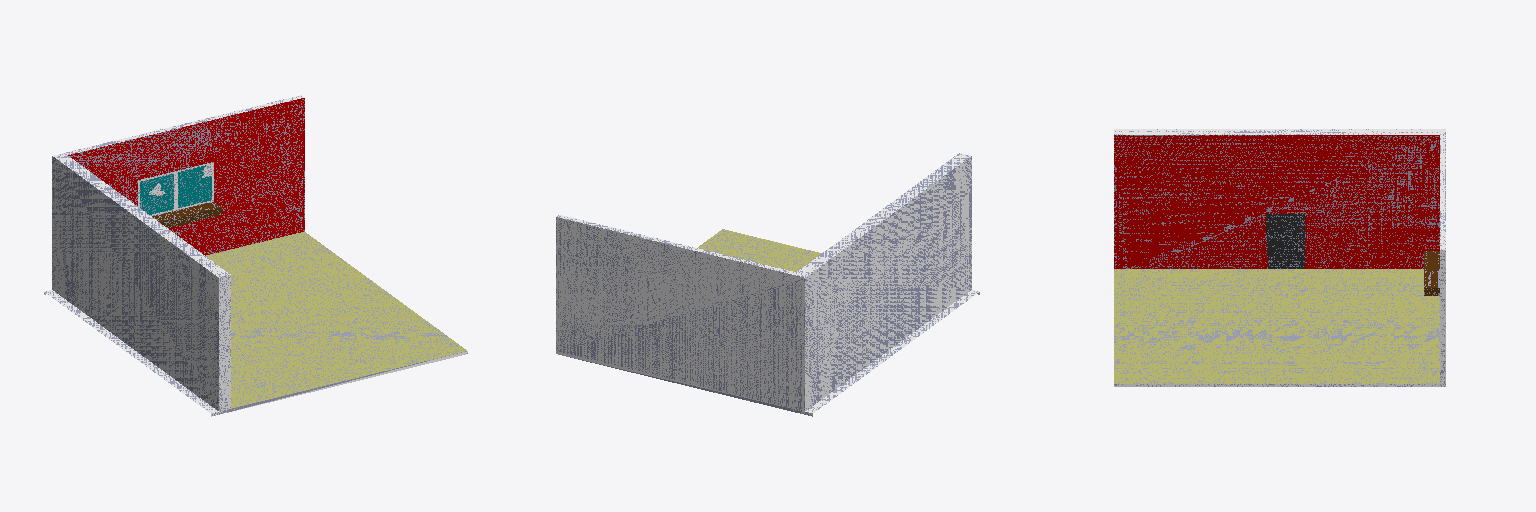
File: ROOM.obj
3 renders of one model, left to right at view 1: azimuth 30°, elevation 25°; view 2: azimuth 150°, elevation 25°; view 3: azimuth 270°, elevation 25°, orthographic.
Visible parts, largest first — view 1: Mesh1 Model; view 2: Mesh1 Model; view 3: Mesh1 Model.
Part boxes in pixels (left/top/right/bottom): Mesh1 Model: left=44, top=95, right=467, bottom=416; Mesh1 Model: left=556, top=153, right=979, bottom=416; Mesh1 Model: left=1114, top=129, right=1445, bottom=386.
Bounding box in the file's own units: 613 × 313 × 688.